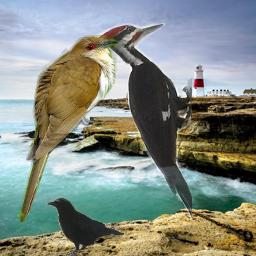Crow: (45, 196, 124, 256)
Cuckoo: (17, 35, 119, 224)
Woodpecker: (90, 23, 192, 220)
